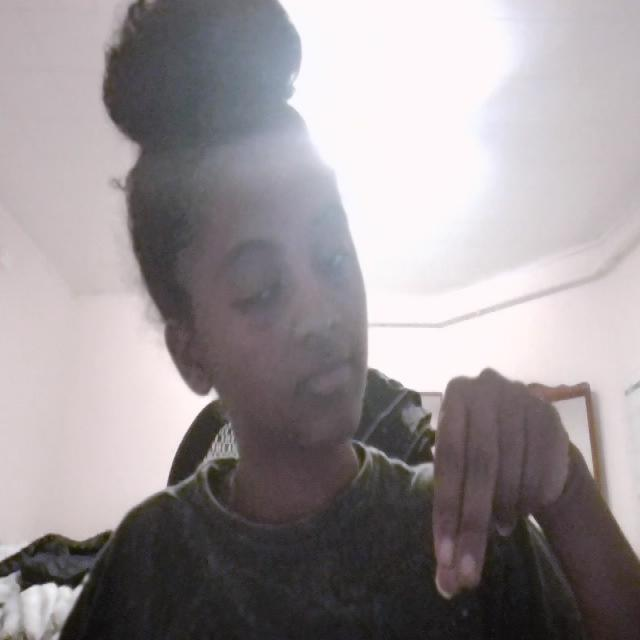no: (404, 327, 593, 619)
